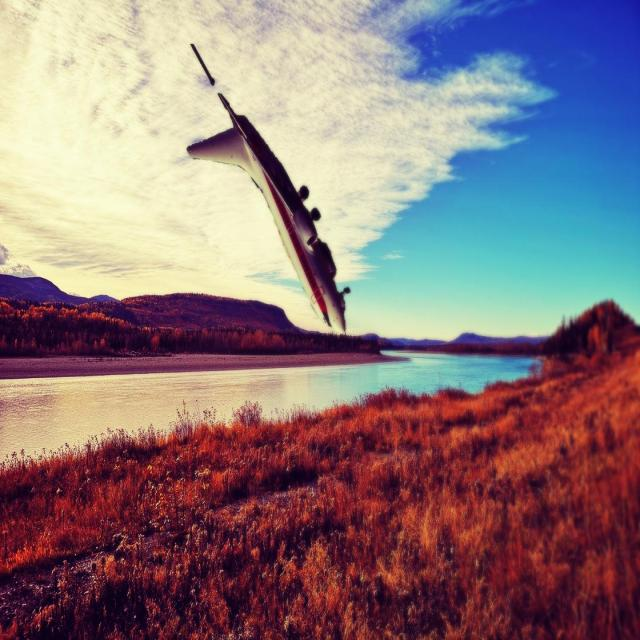airplane: (186, 44, 351, 336)
